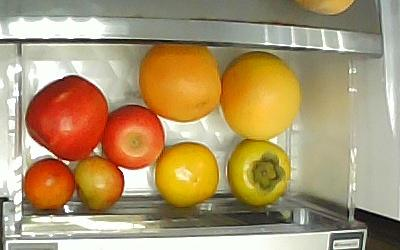apple: (25, 75, 109, 162), (102, 104, 165, 170)
grapefruit: (220, 51, 301, 140), (139, 45, 222, 122)
persimmon: (227, 139, 291, 207), (154, 141, 220, 206)
prune: (74, 156, 125, 211), (25, 158, 75, 212)
